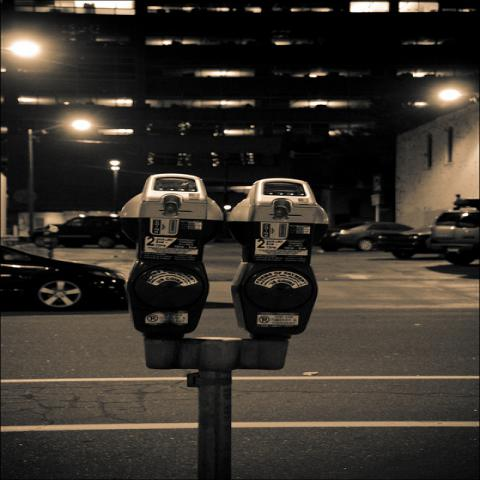car: (1, 245, 126, 312), (28, 216, 138, 250), (320, 221, 416, 252), (431, 206, 479, 266), (390, 224, 440, 259)
